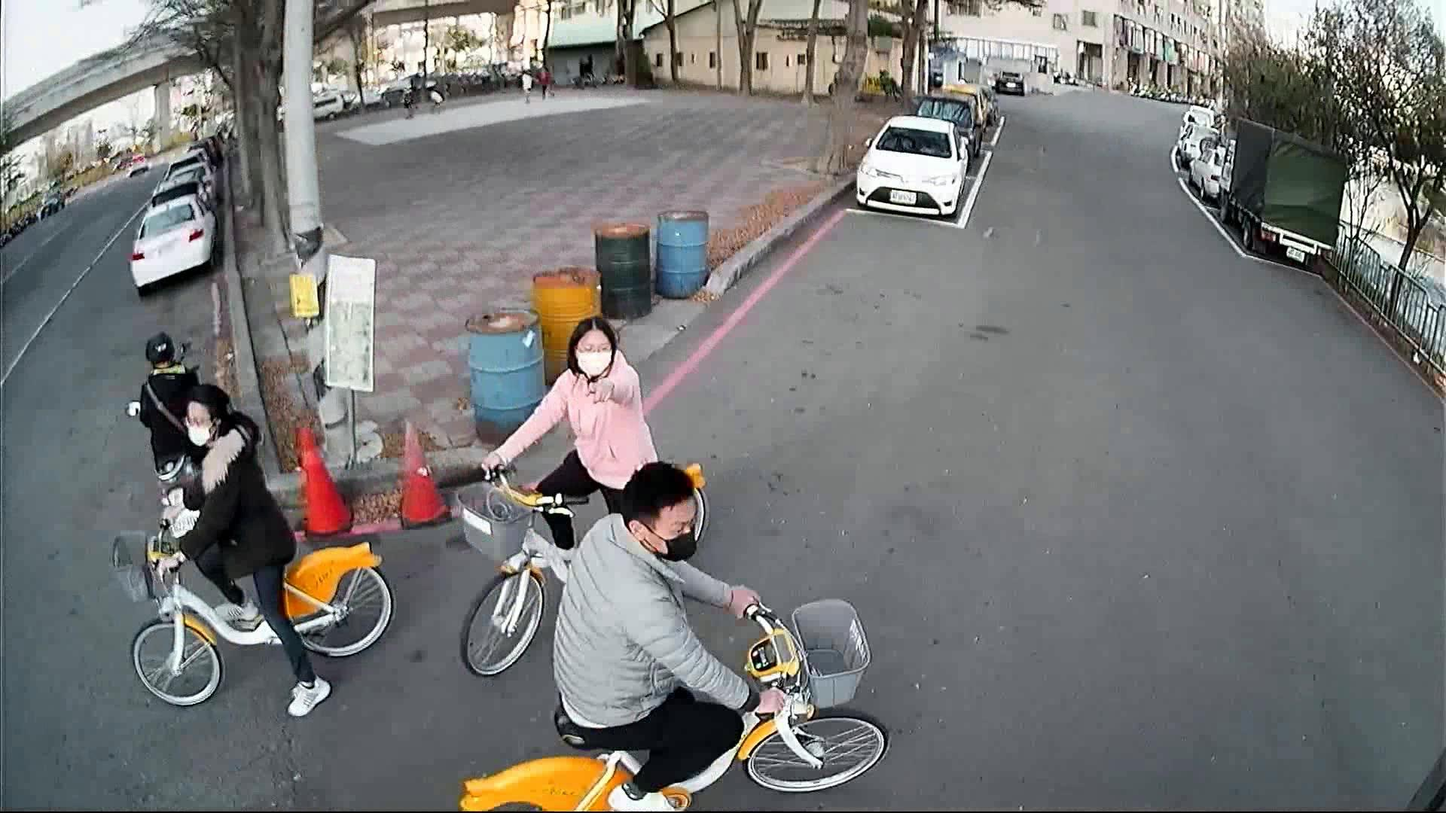person: (544, 455, 794, 812), (155, 379, 332, 720), (474, 307, 664, 571), (131, 328, 214, 493)
